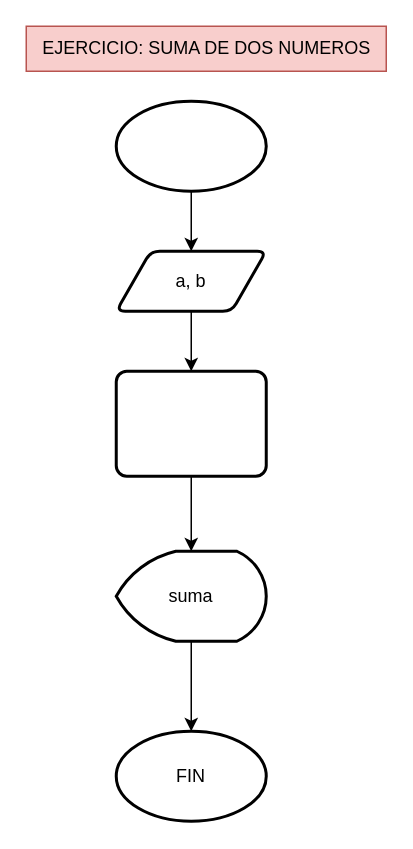
The diagram is 413 pixels wide and 849 high, and some of its shapes have lost their labels. The centre of each missing label's shape, as x and y in pixels:
Inicio: the point at 190,145
suma=a+b: the point at 190,423
